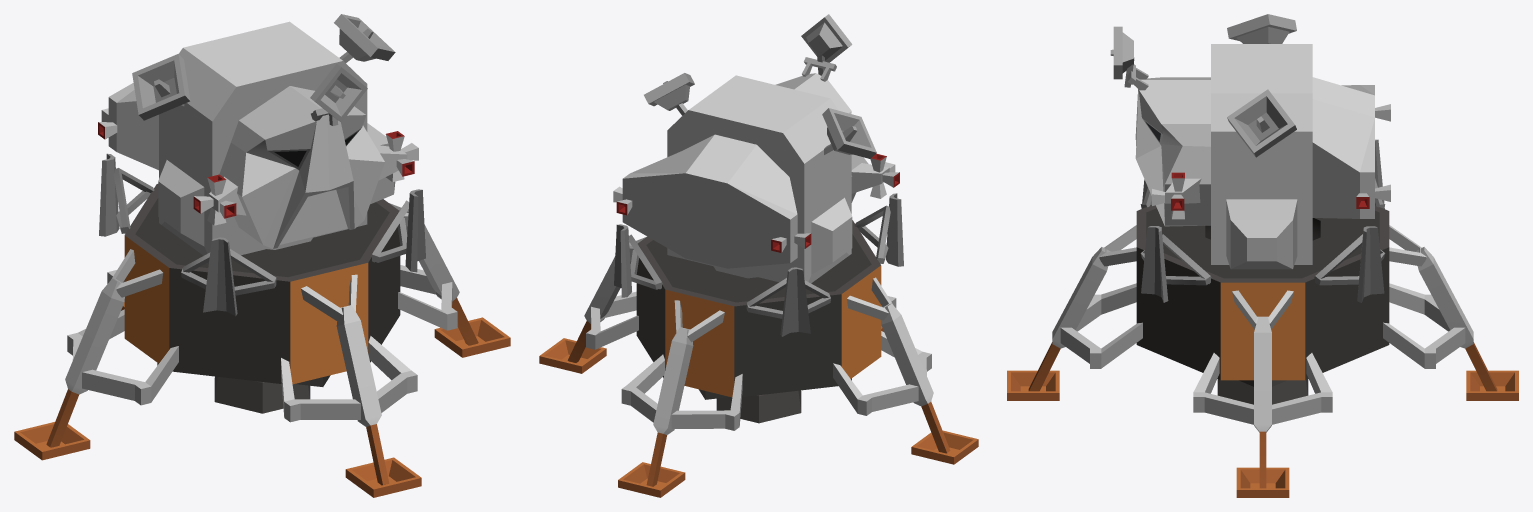
The model's file is SM_Veh_Lander_01.fbx.
The picture shows the model from 3 angles, left to right: view 1: azimuth 30°, elevation 25°; view 2: azimuth 150°, elevation 25°; view 3: azimuth 270°, elevation 25°; orthographic projection. The views are drawn at different scales.
Visible parts, largest first — view 1: SM_Veh_Lander_01, SM_Veh_Lander_Top_01; view 2: SM_Veh_Lander_01, SM_Veh_Lander_Top_01; view 3: SM_Veh_Lander_01, SM_Veh_Lander_Top_01.
Boxes of the visible parts, box(x1,y1,x2,y2) form: SM_Veh_Lander_01: box(14, 153, 510, 497); SM_Veh_Lander_Top_01: box(98, 14, 418, 255); SM_Veh_Lander_01: box(539, 193, 978, 497); SM_Veh_Lander_Top_01: box(613, 14, 899, 283); SM_Veh_Lander_01: box(1007, 139, 1518, 497); SM_Veh_Lander_Top_01: box(1110, 14, 1390, 269).
Size of the model in its own units: 10.48 by 8.32 by 10.48.
